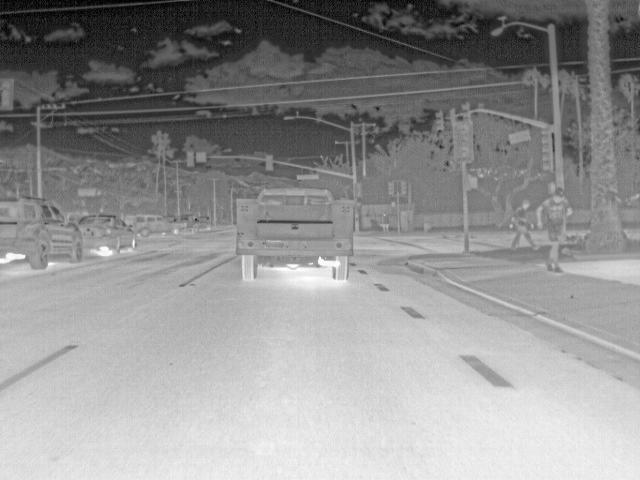car: (235, 188, 357, 282), (0, 195, 84, 270), (83, 211, 139, 256), (136, 214, 179, 236), (174, 214, 192, 234), (192, 214, 210, 232), (66, 211, 84, 228)
person: (536, 188, 573, 274), (507, 197, 538, 253), (380, 210, 391, 236)
